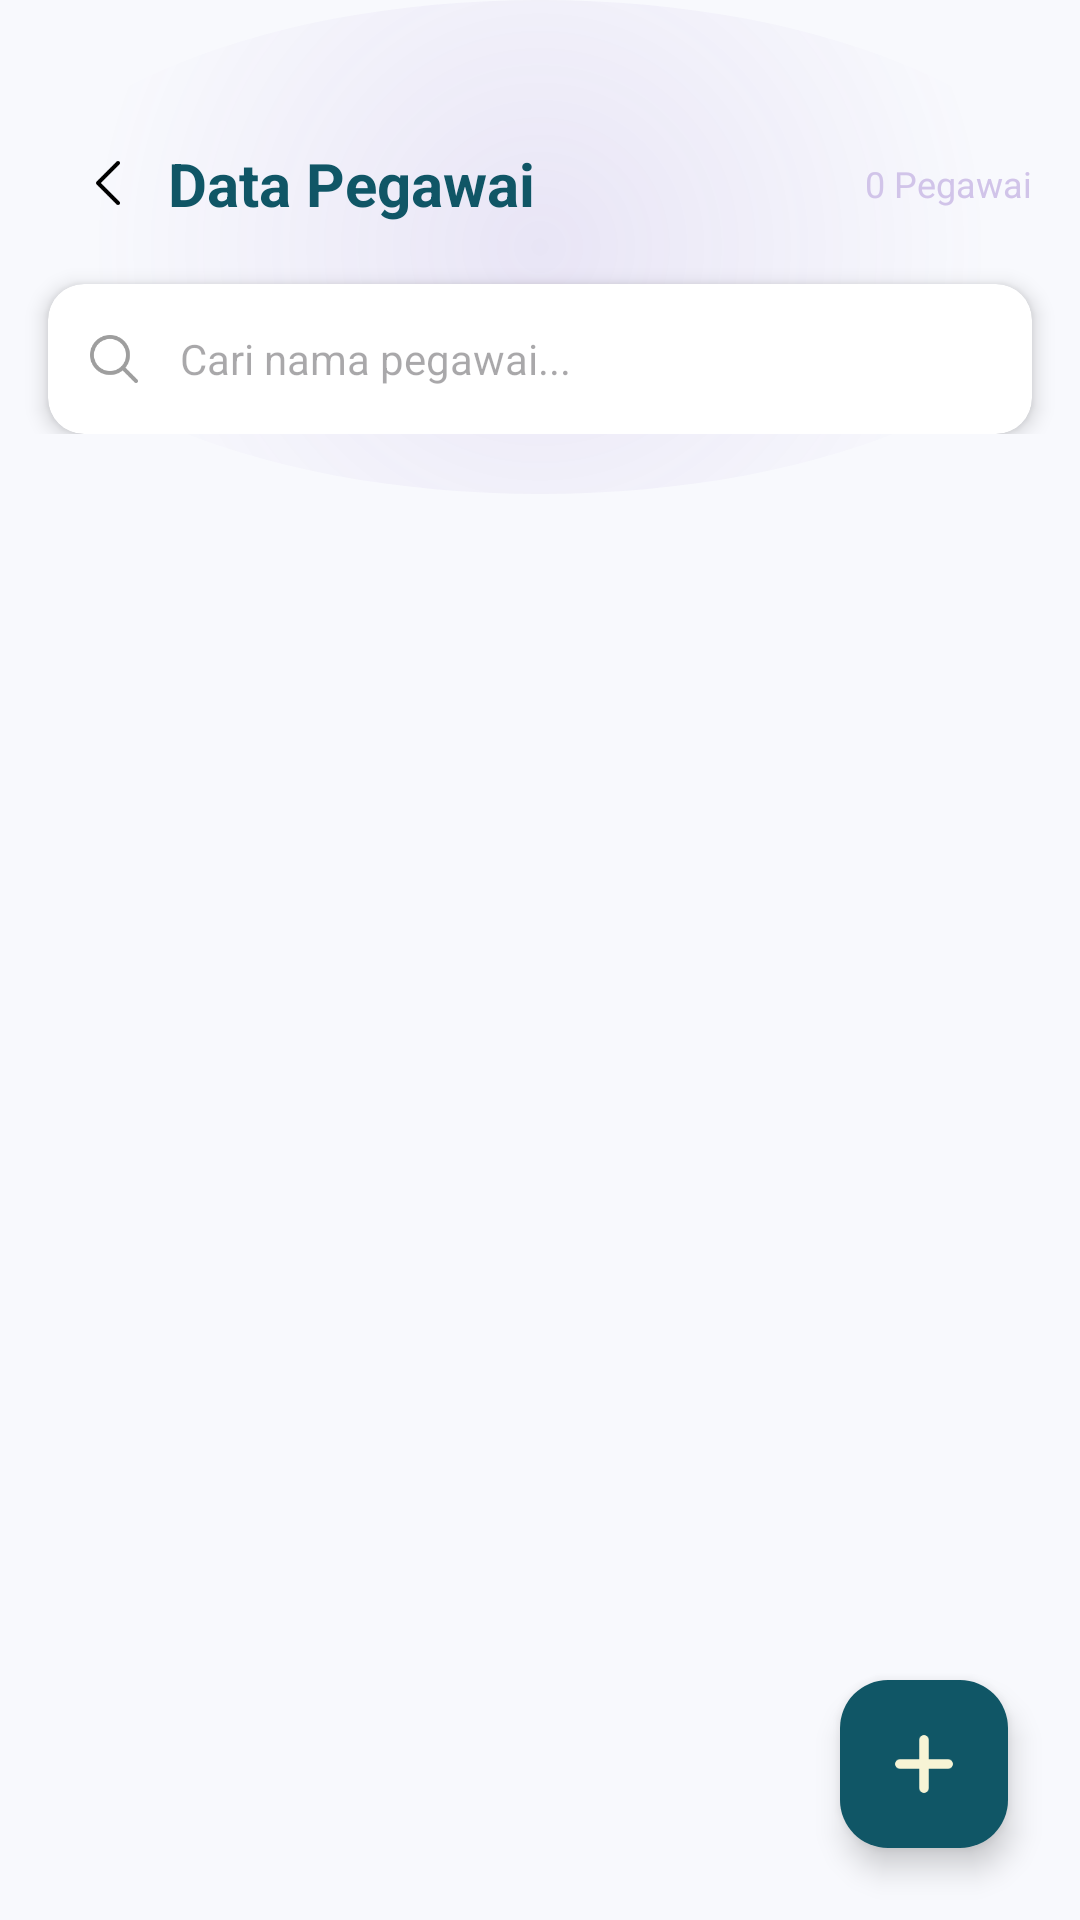

Point at icon controls on the screen. Image size 1080 × 1920, points as (x,y).
back: (108,183)
plus: (924,1764)
search: (114,359)
